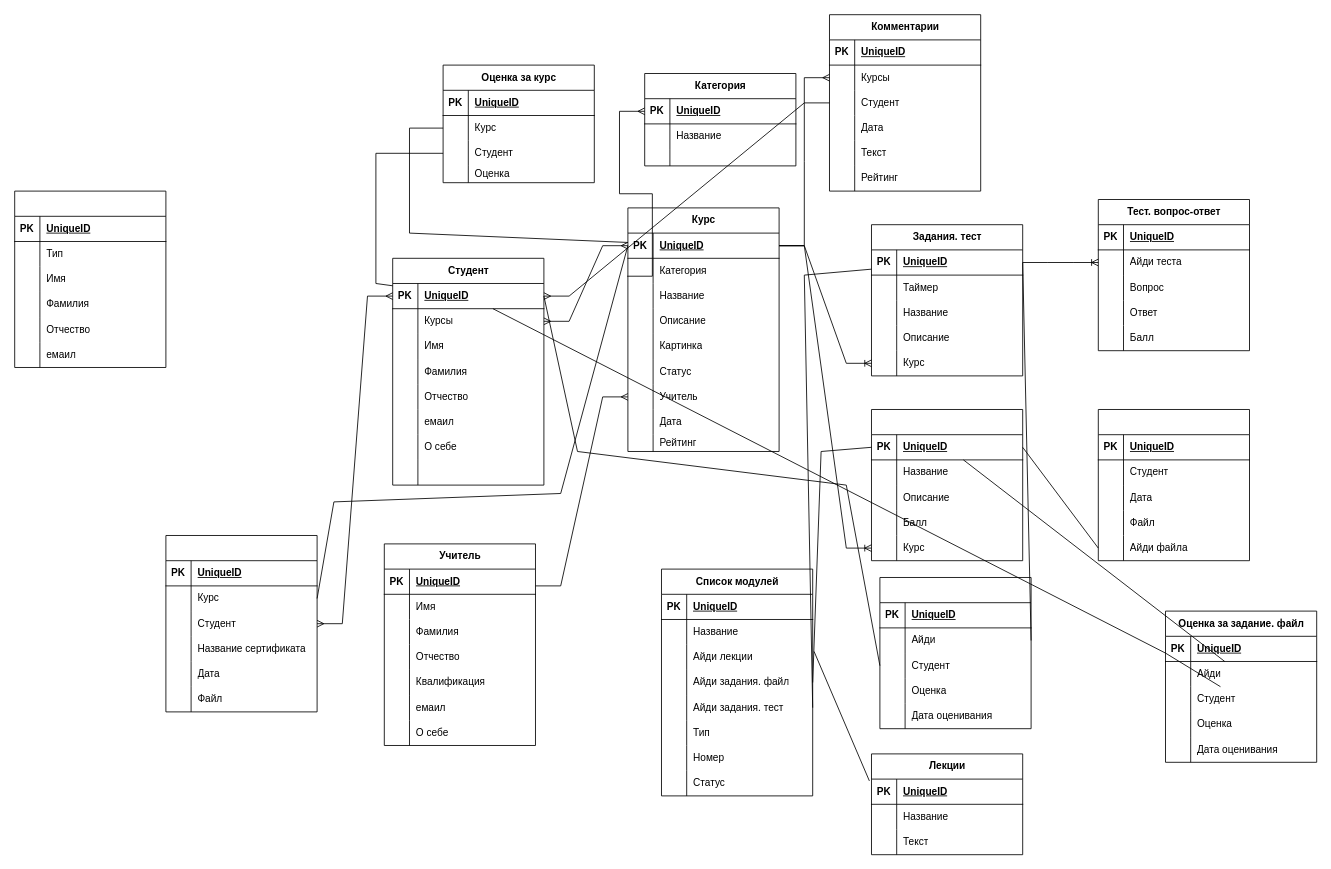
This 1331x869 diagram has some shape labels left out. The box of each missing label's shape, as (x1, y1, x2, y2) in pixels:
Админ: (14, 190, 166, 368)
Задания. файл: (871, 409, 1023, 561)
Ответ. файл: (1097, 409, 1250, 561)
Оценка за задание. тест: (879, 577, 1031, 729)
Сертификаты: (165, 535, 317, 712)
